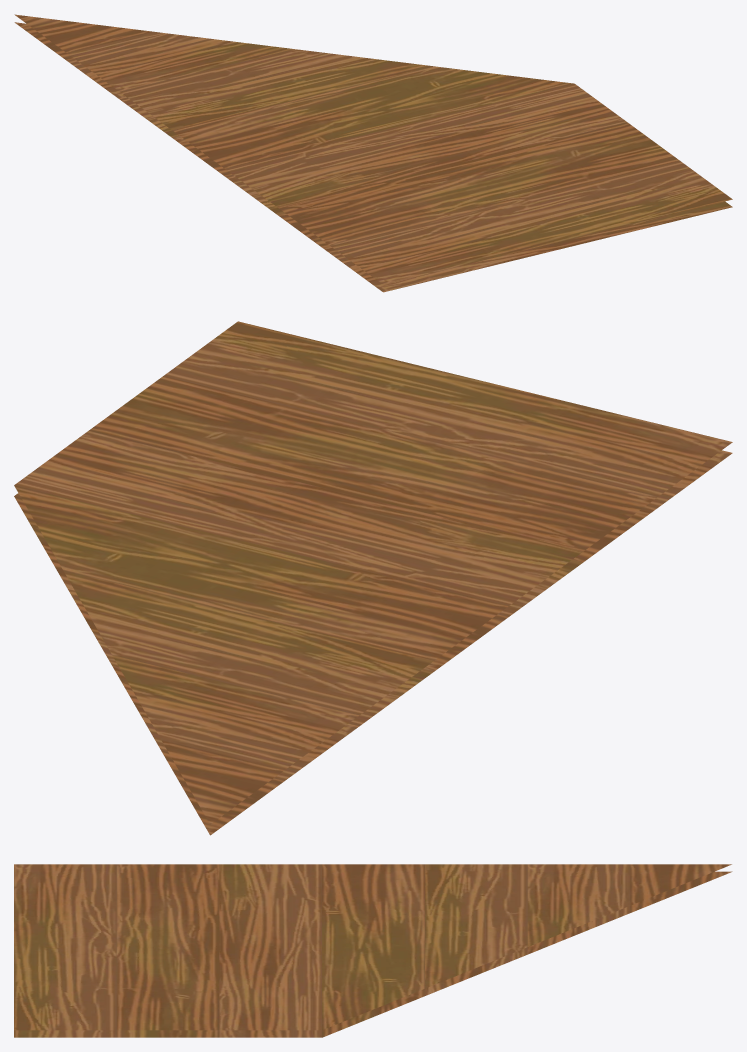
Rendered from Floor_WoodLight_OverhangCorner2.glb.
The picture shows the model from 3 angles, top to bottom: view 1: azimuth 30°, elevation 25°; view 2: azimuth 150°, elevation 25°; view 3: azimuth 270°, elevation 25°; orthographic projection. The views are drawn at different scales.
Visible parts, largest first — view 1: Floor_WoodLight_OverhangCorner2; view 2: Floor_WoodLight_OverhangCorner2; view 3: Floor_WoodLight_OverhangCorner2.
Boxes of the visible parts, x1,y1,x2,y2 form: Floor_WoodLight_OverhangCorner2: (14, 14, 732, 292); Floor_WoodLight_OverhangCorner2: (14, 321, 732, 835); Floor_WoodLight_OverhangCorner2: (14, 864, 732, 1037).
Bounding box in the file's own units: 0.9567 × 0.0201 × 1.75.
1 material, 1 textured.
